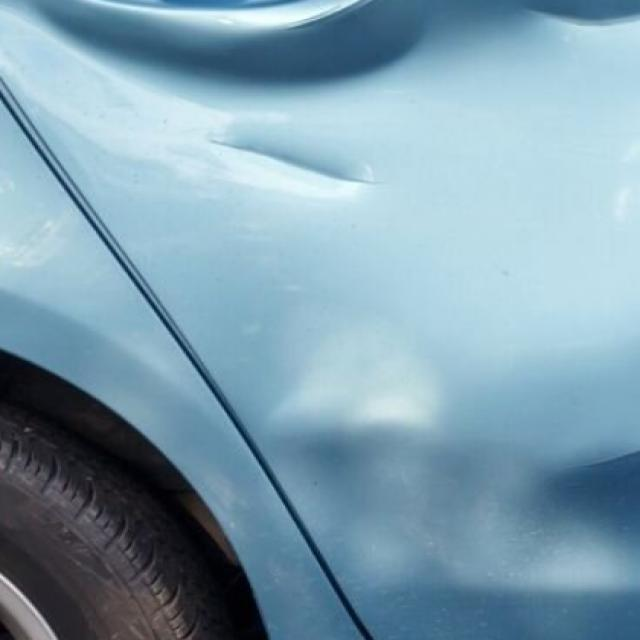dents: (281, 361, 640, 606), (176, 119, 396, 218)
